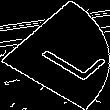L_NW: (14, 27, 96, 83)
